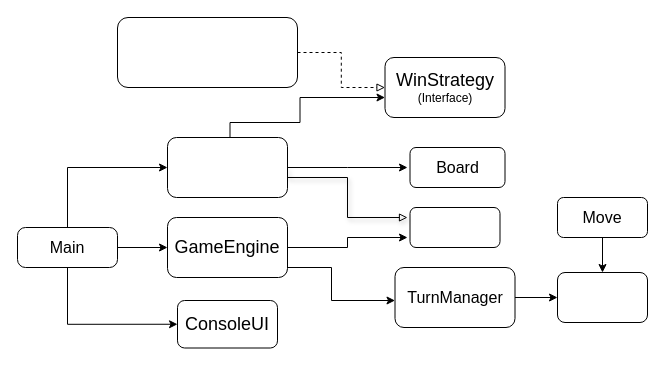
This 665x366 diagram has some shape labels left out. The centre of each missing label's shape, as x and y in pixels:
Game (Abstract): point 454,227
Player: point 602,297
TicTacToeGame: point 227,167
TicTacToeWinStrategy: point 207,52
